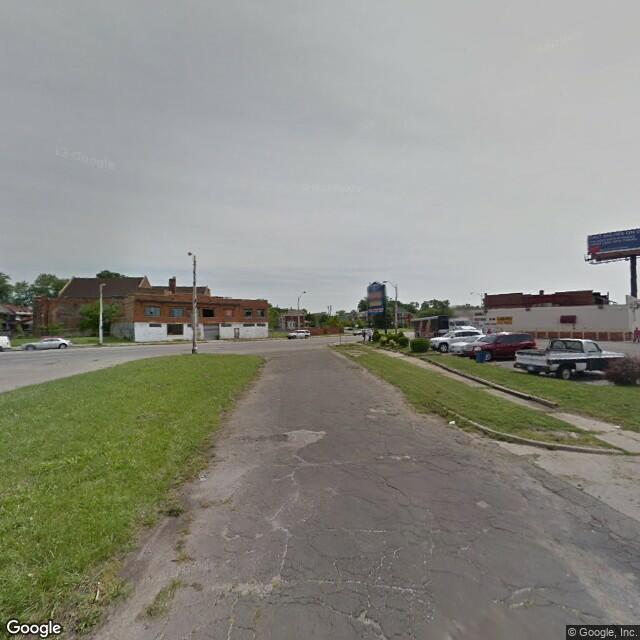litter: (437, 414, 463, 428)
